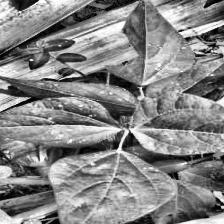Bean Rust: (48, 149, 174, 224), (109, 2, 197, 85), (0, 73, 140, 115), (0, 98, 109, 146), (137, 93, 224, 153), (142, 52, 224, 98), (174, 161, 224, 193)
